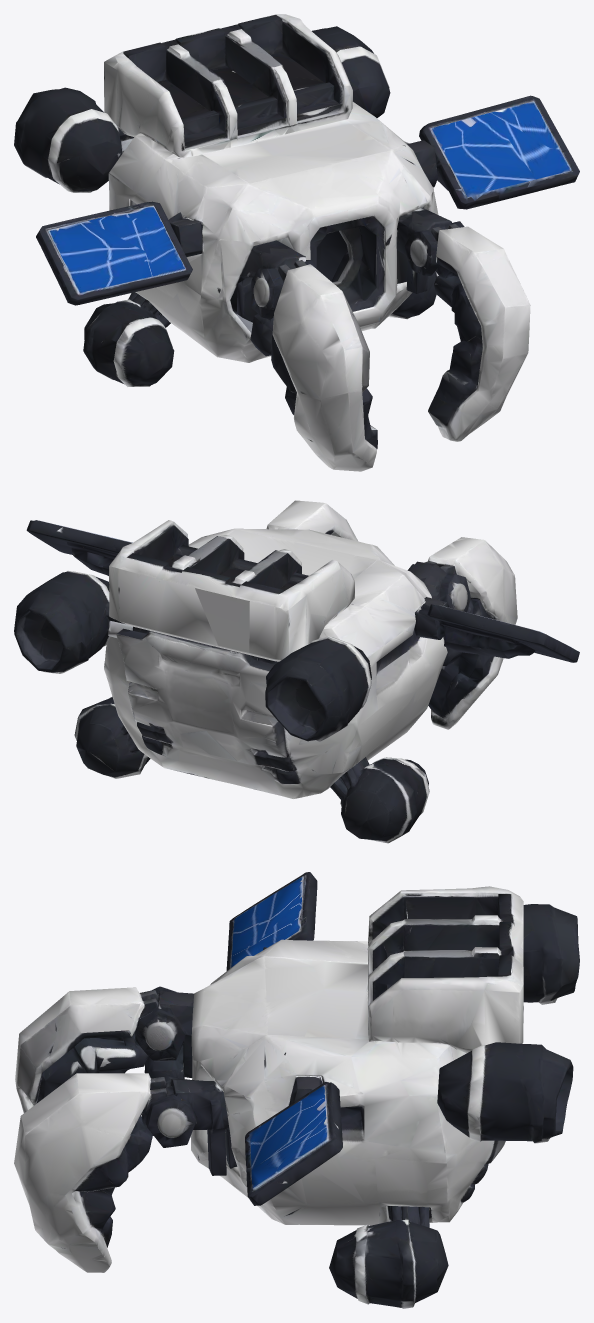
The model's file is collector-detailed.glb.
3 views of the same model, one above another, from view 1: azimuth 30°, elevation 25°; view 2: azimuth 150°, elevation 25°; view 3: azimuth 270°, elevation 25° (orthographic). The views are drawn at different scales.
Visible parts, largest first — view 1: Mesh_0; view 2: Mesh_0; view 3: Mesh_0.
Boxes of the visible parts, box(x1,y1,x2,y2) form: Mesh_0: box(14, 14, 579, 471); Mesh_0: box(14, 500, 579, 843); Mesh_0: box(14, 872, 579, 1308).
Size of the model in its own units: 2 by 1.04 by 1.75.
1 material, 1 textured.
